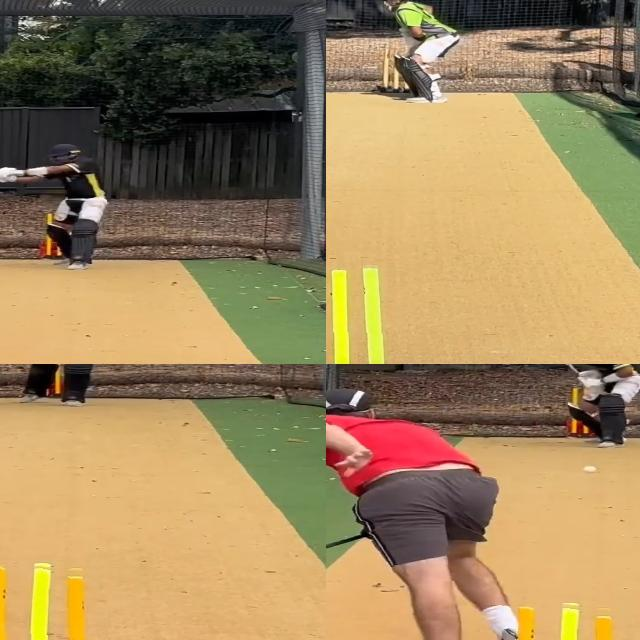Cricket ball: (580, 463, 598, 474)
Stumps: (0, 561, 108, 640), (326, 262, 408, 364), (495, 599, 635, 640), (384, 45, 410, 93)
